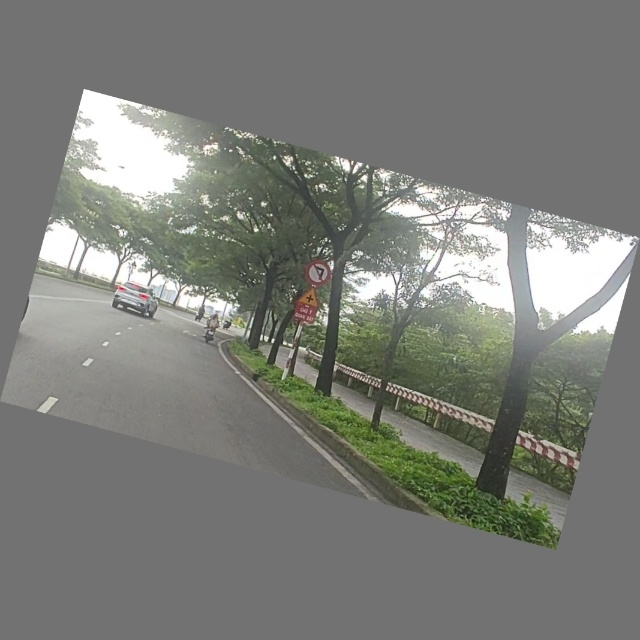P.123a: (302, 257, 337, 291)
W.205a: (293, 282, 327, 310)
